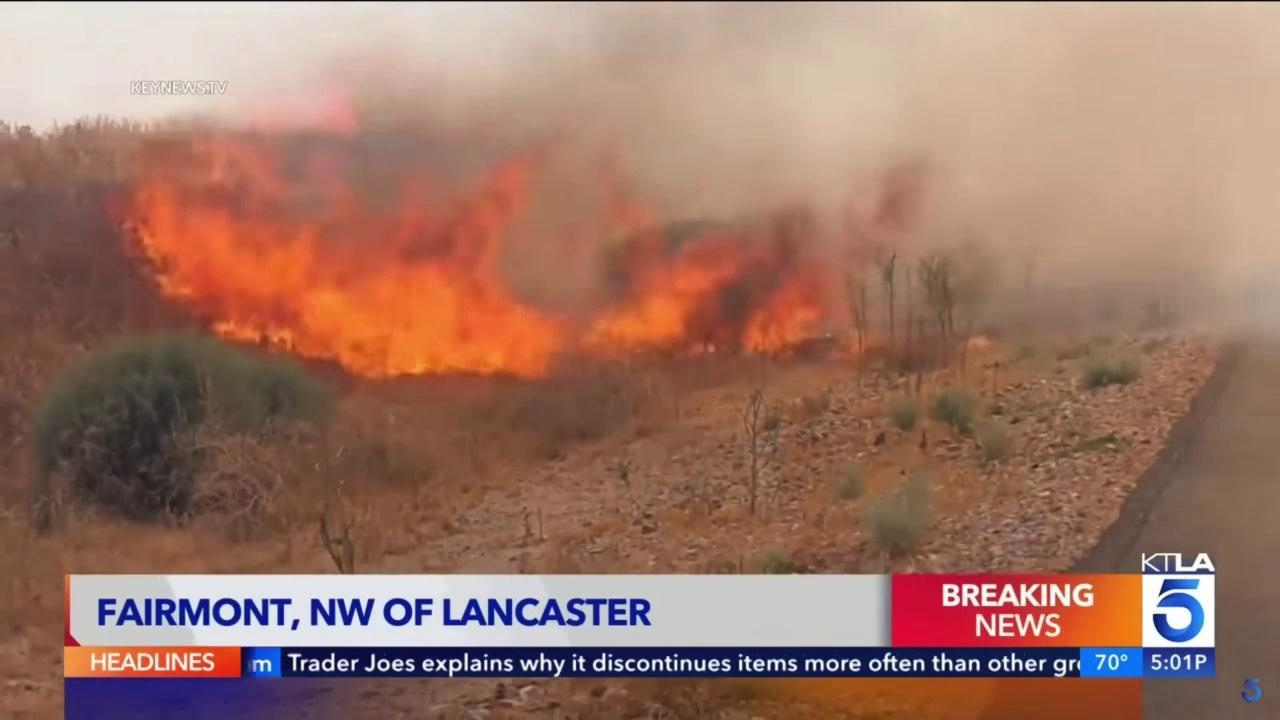fire: (110, 87, 868, 383)
smoke: (101, 3, 1280, 362)
